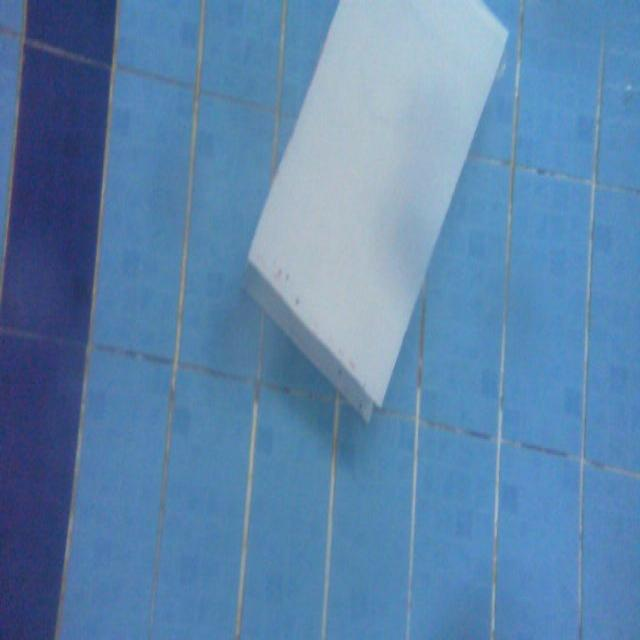Cuboid: (242, 0, 509, 423)
